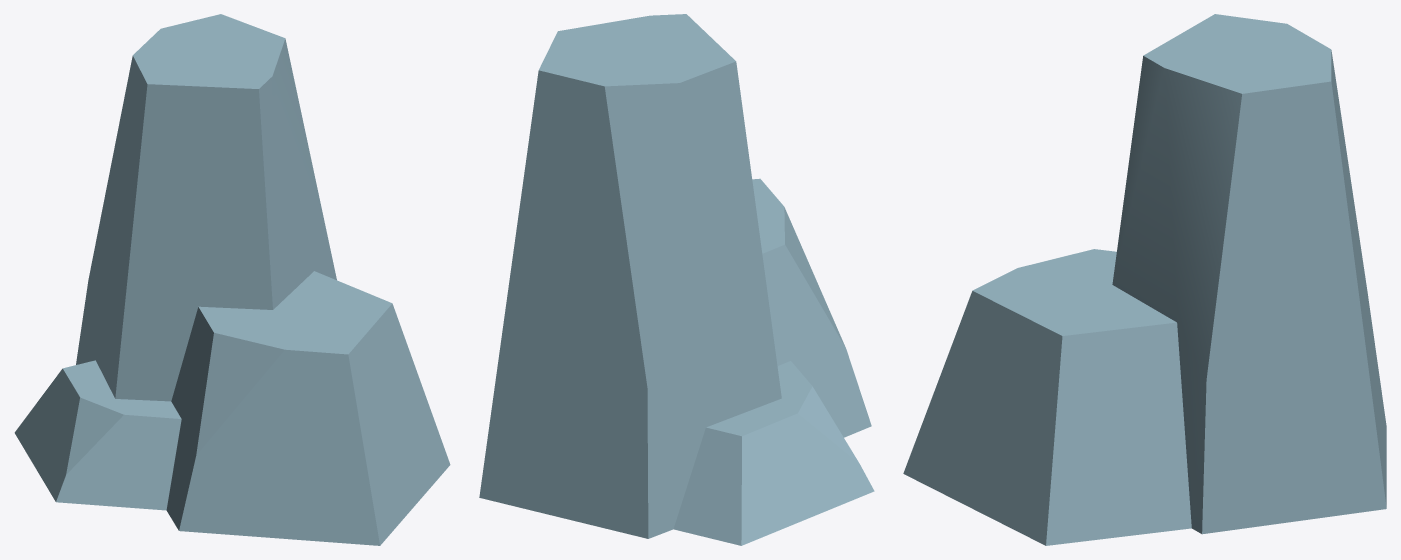
Rendered from rockSmall.obj.
3 views of the same model, side by side, from view 1: azimuth 30°, elevation 25°; view 2: azimuth 150°, elevation 25°; view 3: azimuth 270°, elevation 25° (orthographic). The views are drawn at different scales.
Visible parts, largest first — view 1: rockSmall; view 2: rockSmall; view 3: rockSmall.
Boxes of the visible parts, bbox=[...] form: rockSmall: bbox=[14, 14, 450, 545]; rockSmall: bbox=[479, 14, 874, 545]; rockSmall: bbox=[903, 14, 1386, 545].
Bounding box in the file's own units: 0.942 × 1.02 × 1.08.
